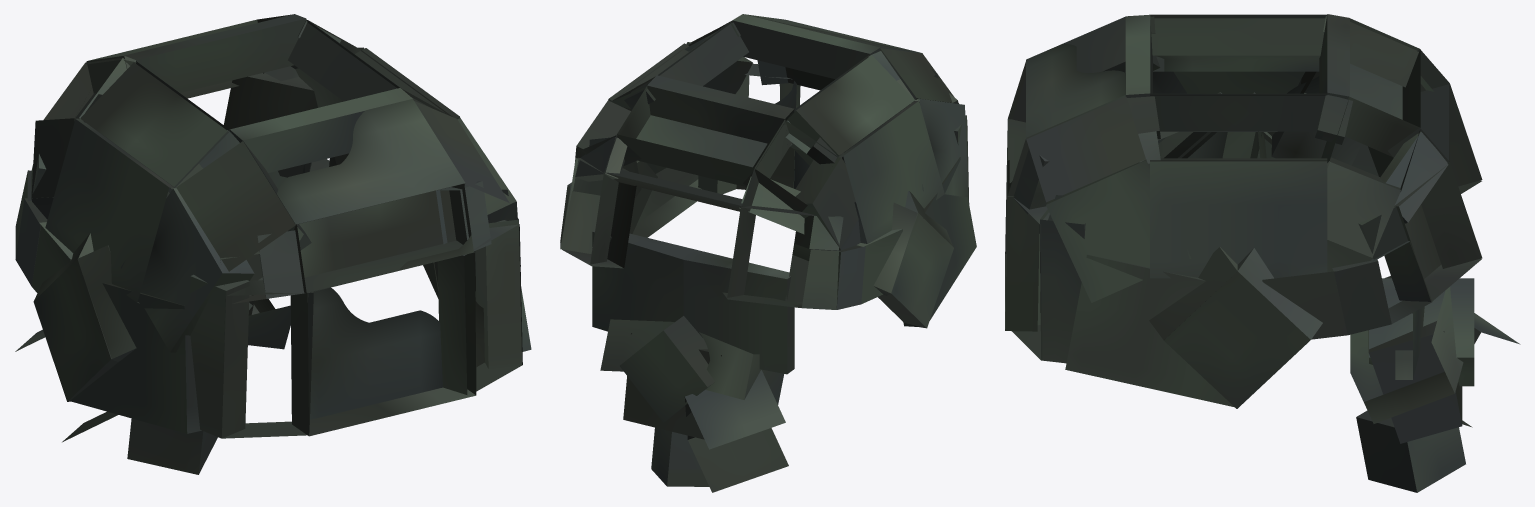
File: hazard_kit_h.obj
The picture shows the model from 3 angles, left to right: view 1: azimuth 30°, elevation 25°; view 2: azimuth 150°, elevation 25°; view 3: azimuth 270°, elevation 25°; orthographic projection. The views are drawn at different scales.
Parts seen in each view (by area): view 1: mesh; view 2: mesh; view 3: mesh.
Part boxes in pixels (x1,y1,x2,y2): mesh: (15,14,531,474); mesh: (560,14,976,492); mesh: (1005,14,1520,492).
Size of the model in its own units: 0.7821 by 0.8378 by 0.9174.
